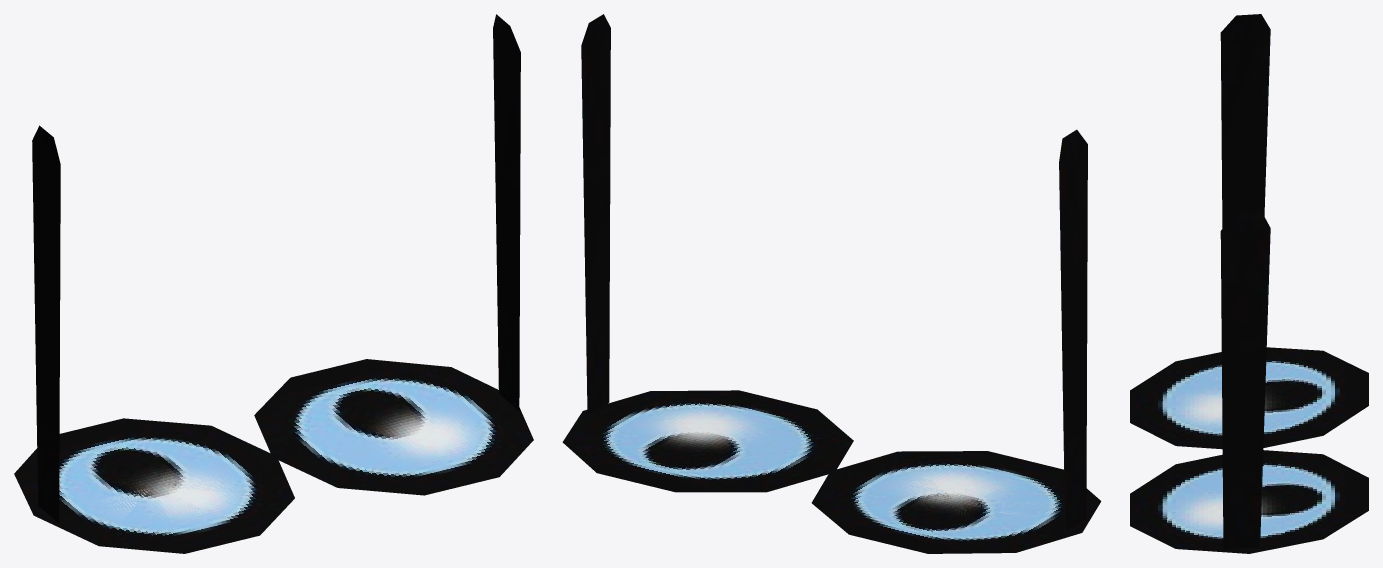
Rendered from tt_m_chr_avt_acc_msk_roundGlasses.glb.
3 renders of one model, left to right at view 1: azimuth 30°, elevation 25°; view 2: azimuth 150°, elevation 25°; view 3: azimuth 270°, elevation 25°, orthographic. The views are drawn at different scales.
Visible parts, largest first — view 1: roundGlasses; view 2: roundGlasses; view 3: roundGlasses.
Part boxes in pixels (bbox=[...]): roundGlasses: bbox=[14, 14, 533, 553]; roundGlasses: bbox=[562, 14, 1101, 553]; roundGlasses: bbox=[1130, 14, 1368, 553].
Size of the model in its own units: 3.41 by 2.65 by 1.66.
Materials: 1 (1 with a texture image).
